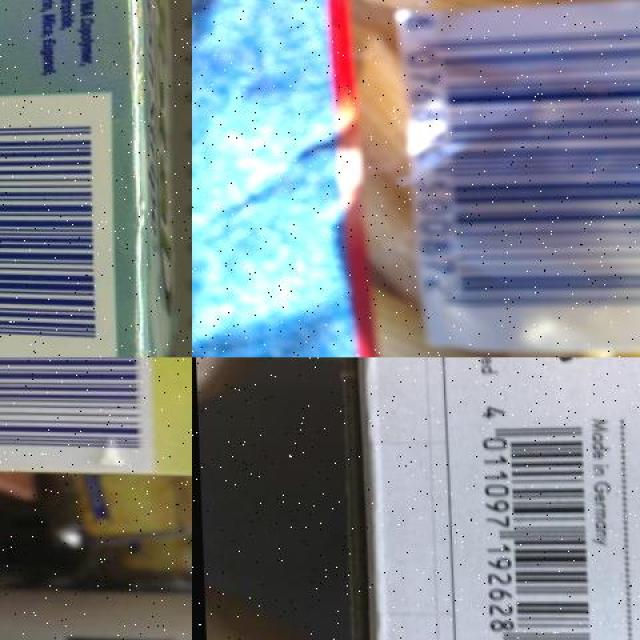Barcode: (401, 0, 639, 349), (461, 393, 596, 640), (0, 91, 120, 357), (0, 358, 152, 470)
